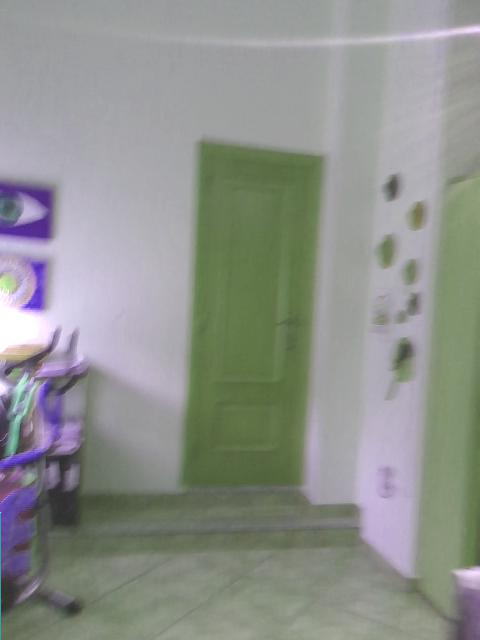closed_door: (178, 138, 324, 495)
